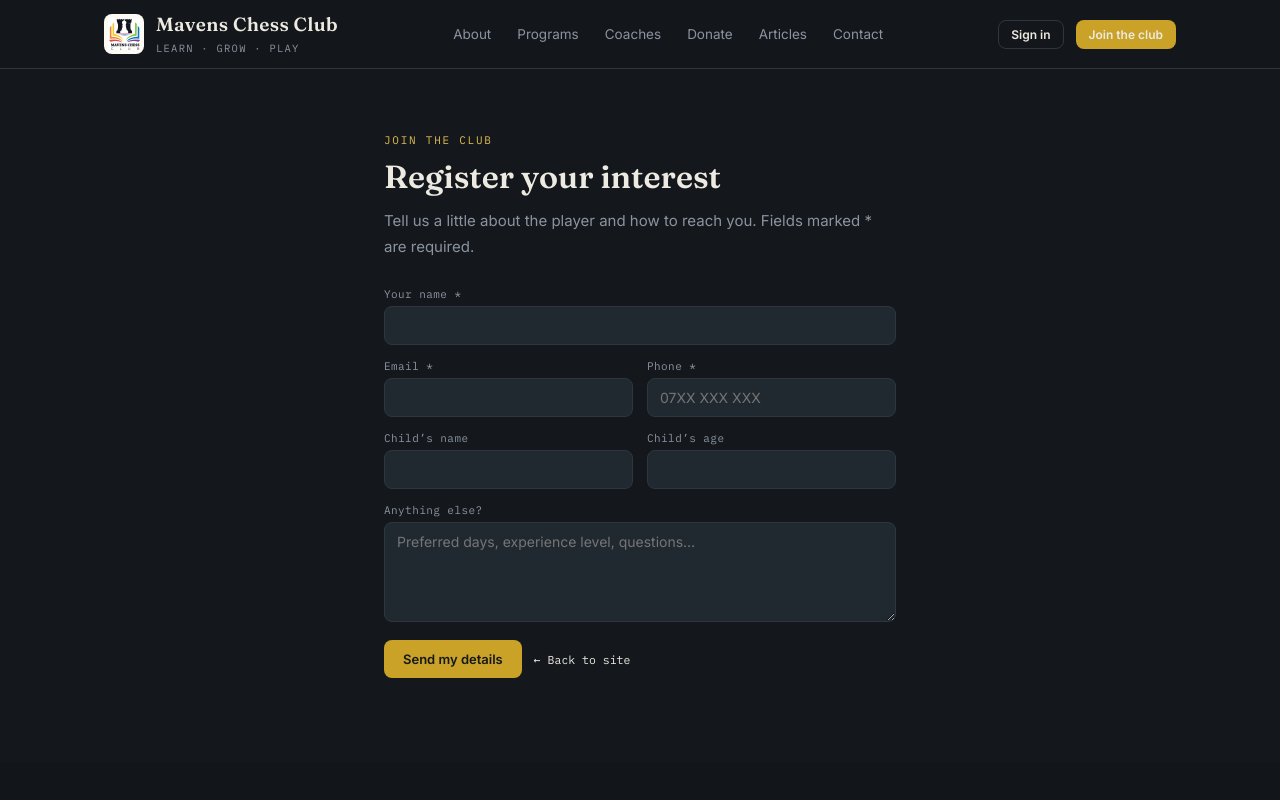
Scenario: JoinPage › keeps the form and shows the error message when the API rejects
The image size is (1280, 800).
Type "A Parent" into the field labelled "Your name *" at (640, 326), box left=384, top=306, right=896, bottom=345
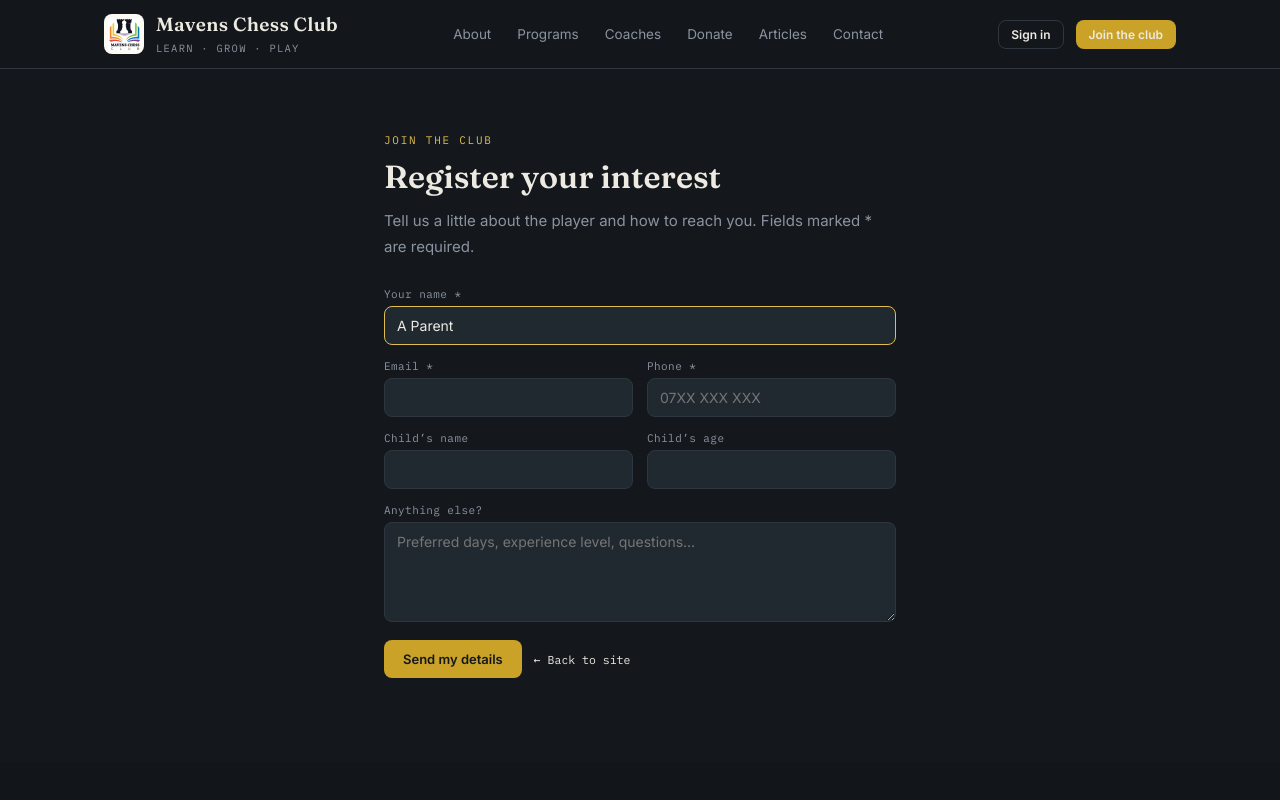
Type "a@b.com" into the field labelled "Email *" at (508, 398), box left=384, top=378, right=633, bottom=417
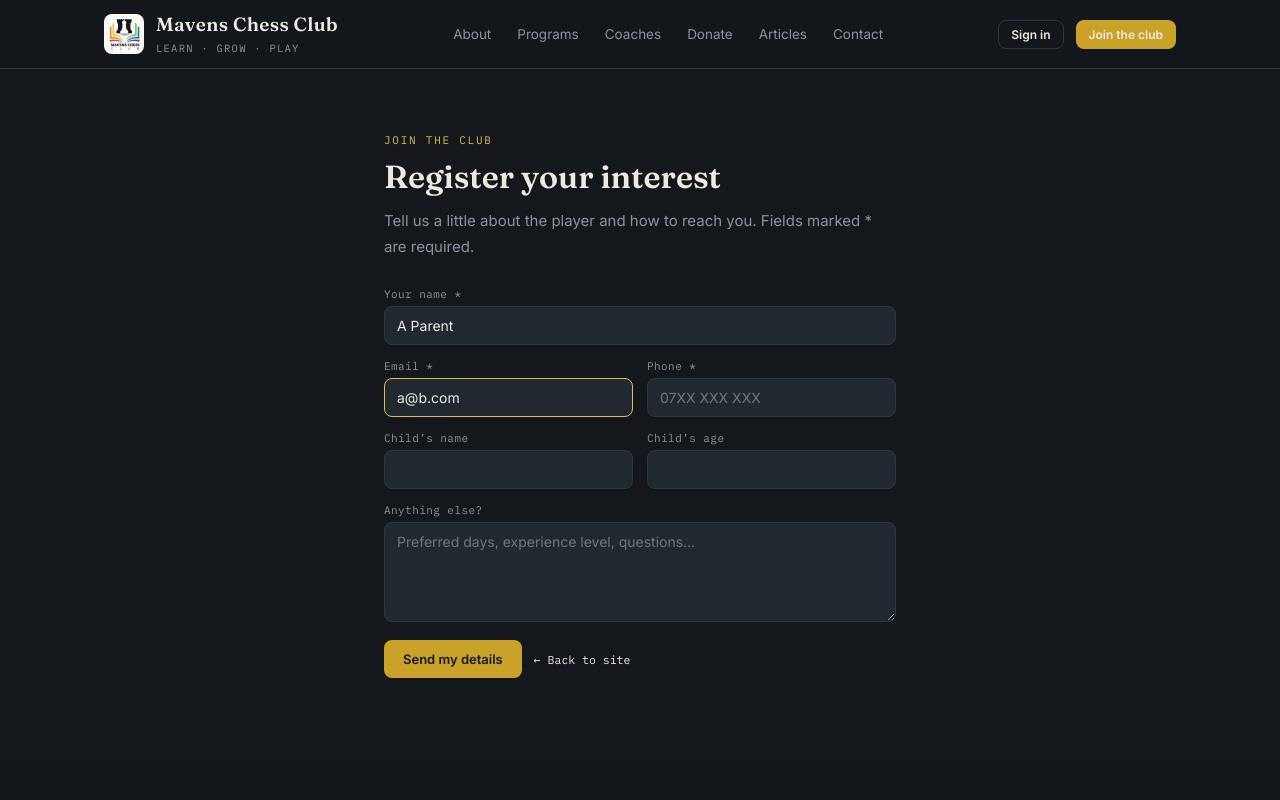
Type "x" into the field labelled "Phone *" at (772, 398), box left=647, top=378, right=896, bottom=417
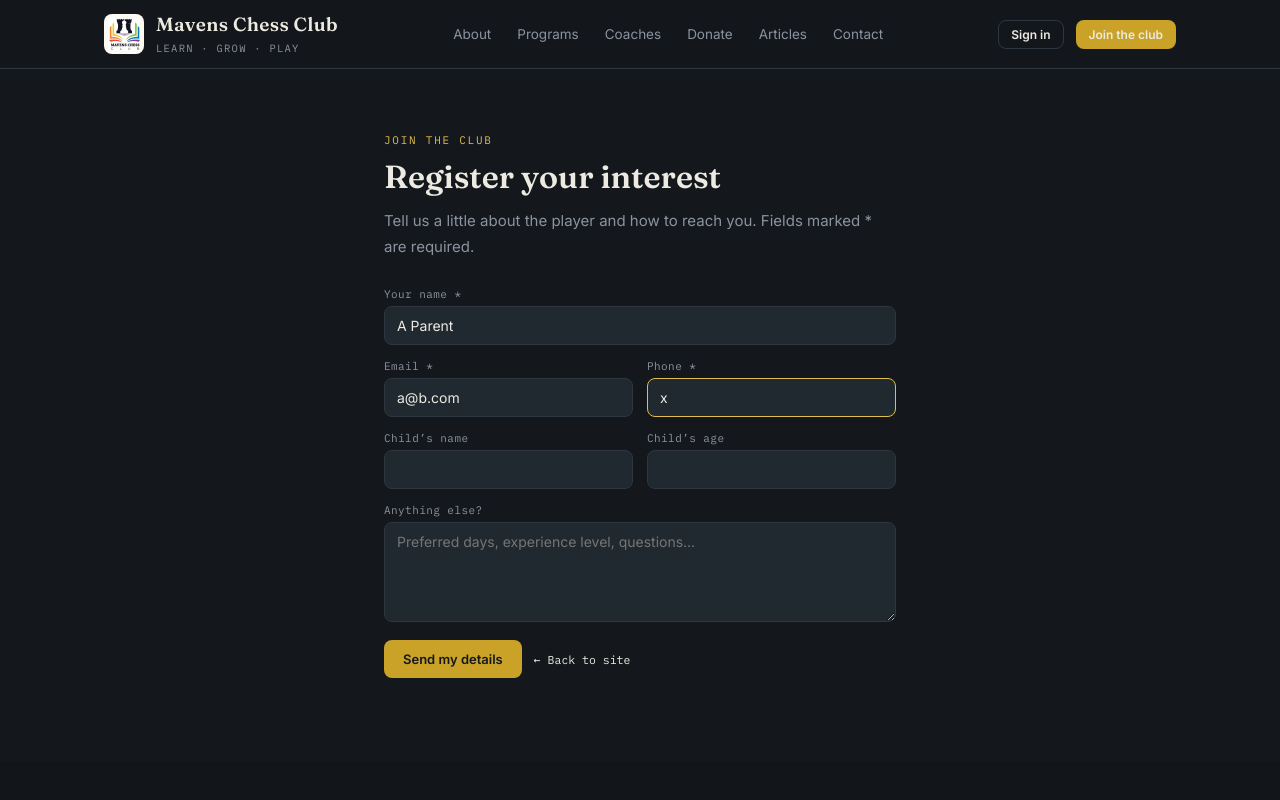
Click the button "Send my details" at (453, 659), box left=384, top=640, right=522, bottom=678
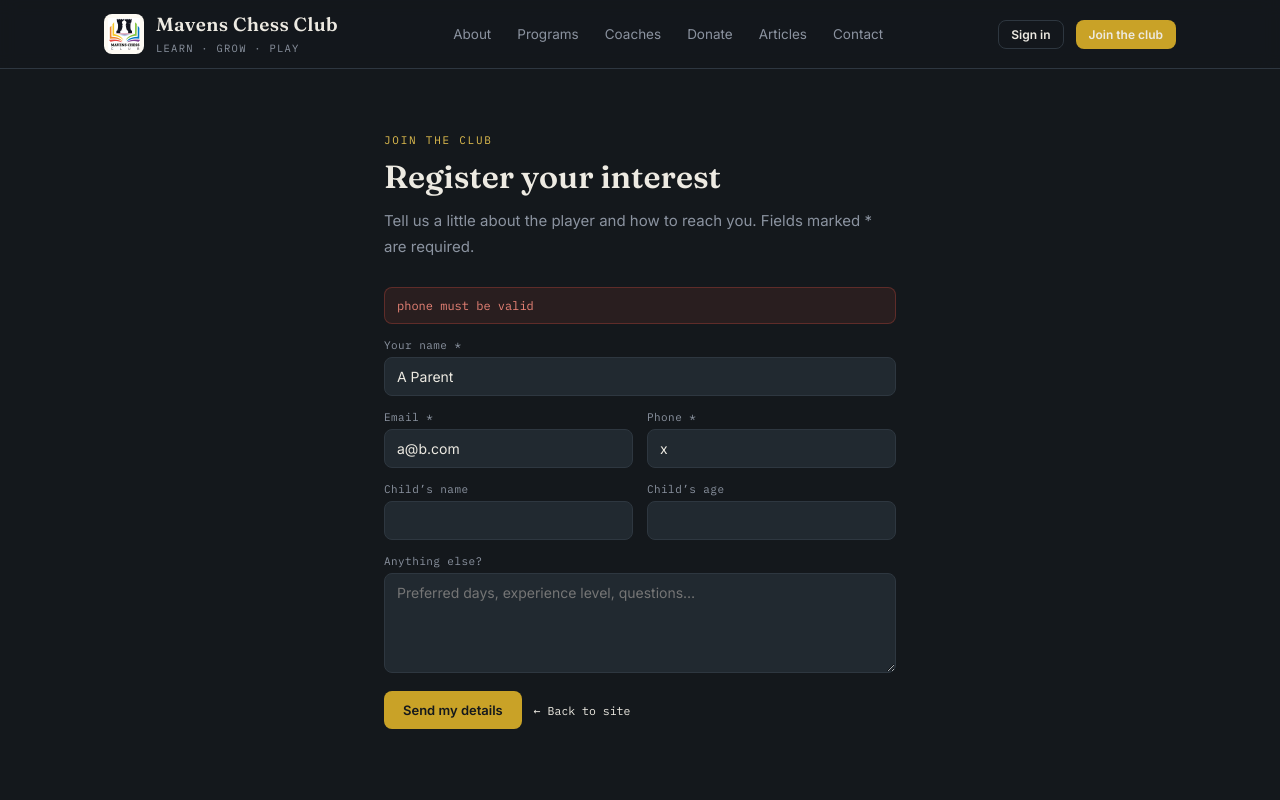
Expected: the button "Send my details" is shown, left=384, top=691, right=522, bottom=729
Result: the text "phone must be valid" is shown at left=384, top=287, right=896, bottom=324
